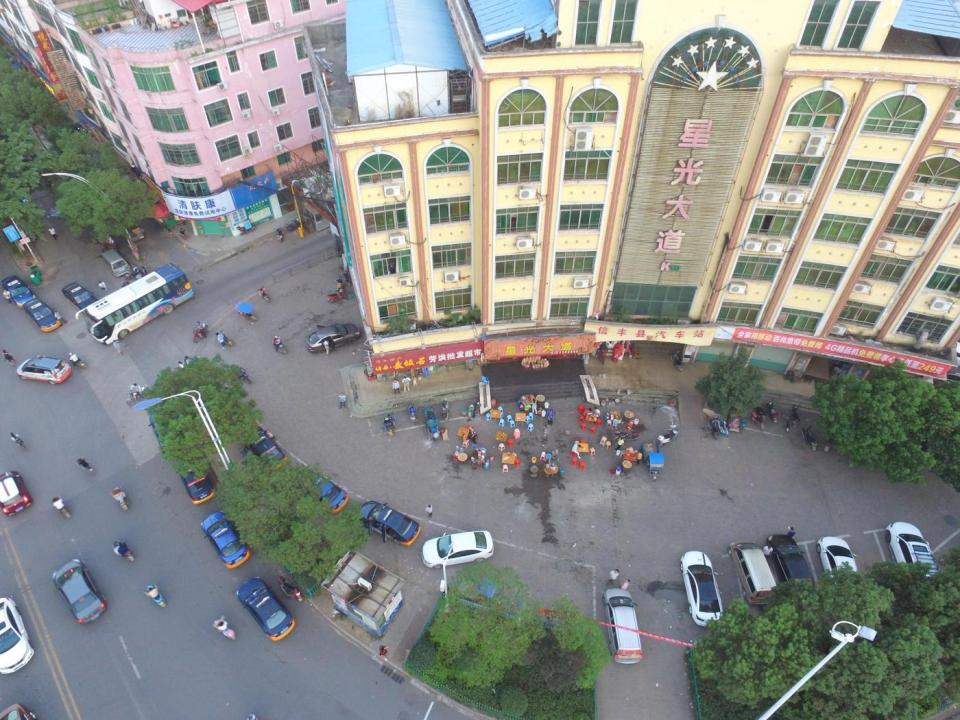bus: (74, 263, 194, 345)
car: (886, 521, 942, 594), (236, 576, 296, 641), (52, 558, 108, 625), (680, 550, 724, 626), (766, 534, 815, 600), (357, 500, 421, 546), (201, 510, 250, 569), (0, 596, 36, 674), (816, 536, 862, 597), (422, 530, 494, 568), (295, 468, 349, 514), (240, 425, 288, 471), (176, 458, 216, 504), (304, 322, 360, 354), (16, 355, 72, 385), (0, 470, 34, 517), (147, 406, 182, 448), (23, 297, 62, 332), (1, 274, 37, 310)
van: (727, 539, 779, 605), (602, 588, 643, 664), (100, 248, 131, 278)
